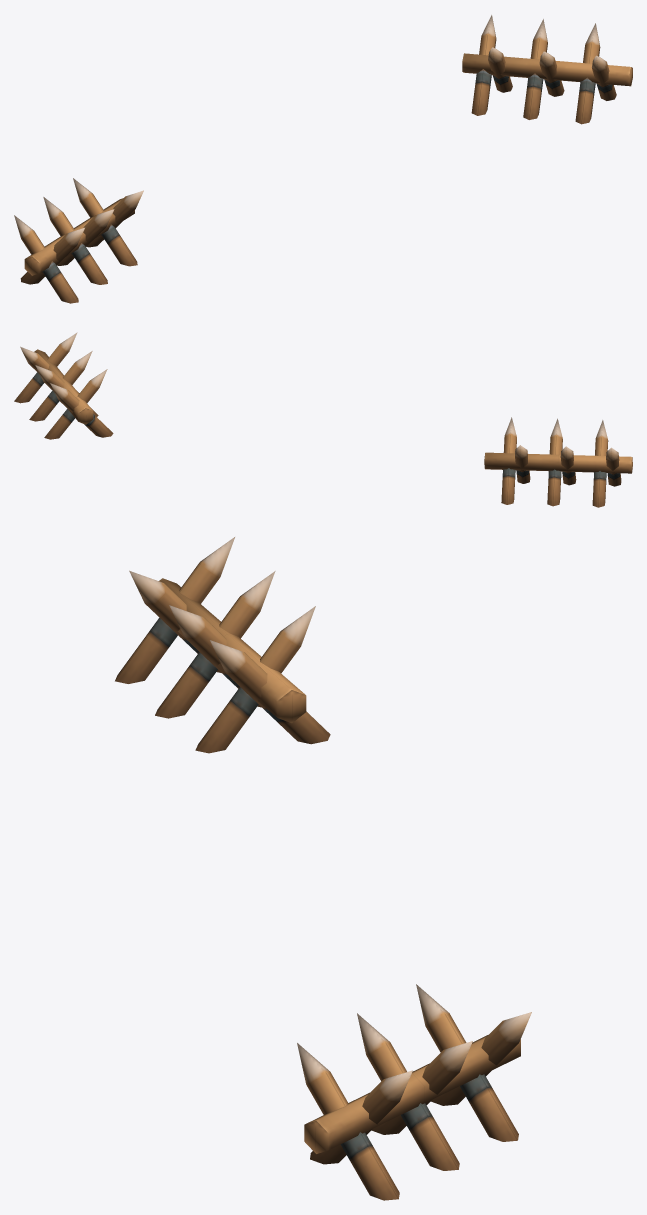
File: area_06_21.fbx
3 views of the same model, one above another, from view 1: azimuth 30°, elevation 25°; view 2: azimuth 150°, elevation 25°; view 3: azimuth 270°, elevation 25° (orthographic). The views are drawn at different scales.
Visible parts, largest first — view 1: area_06_21; view 2: area_06_21; view 3: area_06_21.
Boxes of the visible parts, x1,y1,x2,y2 form: area_06_21: [14, 15, 632, 303]; area_06_21: [14, 332, 632, 507]; area_06_21: [115, 537, 531, 1200].
Bounding box in the file's own units: 23.27 × 2.36 × 7.46.
